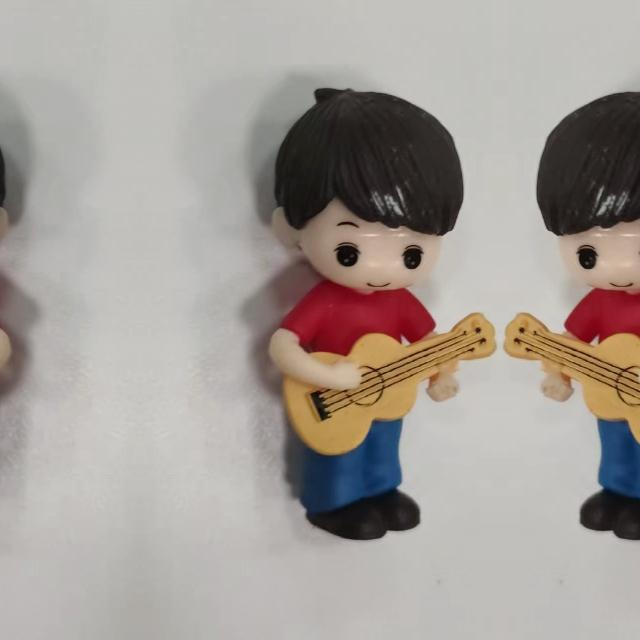man cloth: (279, 282, 441, 420), (559, 282, 640, 419), (0, 282, 1, 419)
man head: (276, 85, 468, 298), (531, 85, 640, 298), (0, 85, 4, 298)
trousers: (293, 410, 427, 546), (573, 410, 640, 545)
